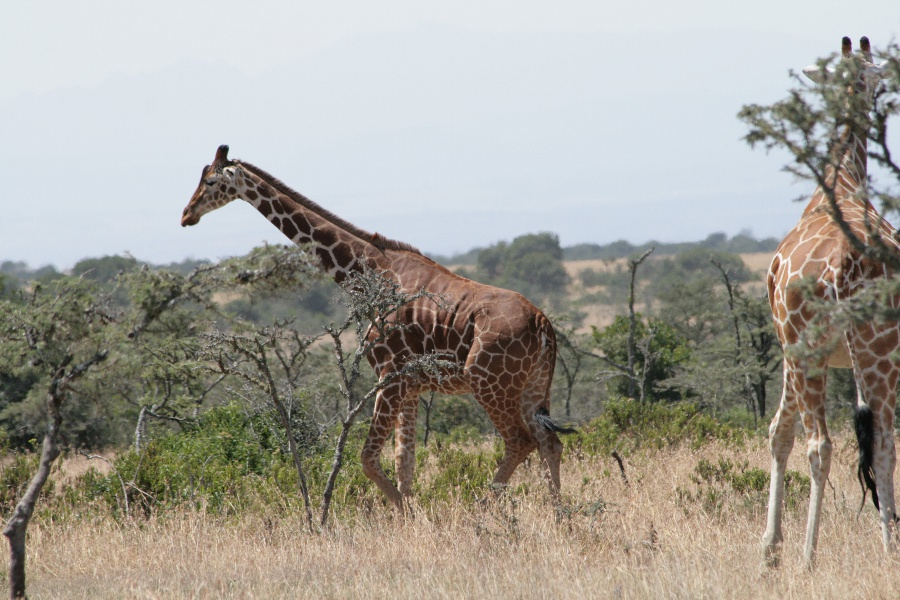giraffe: (173, 135, 569, 508), (749, 24, 898, 580)
